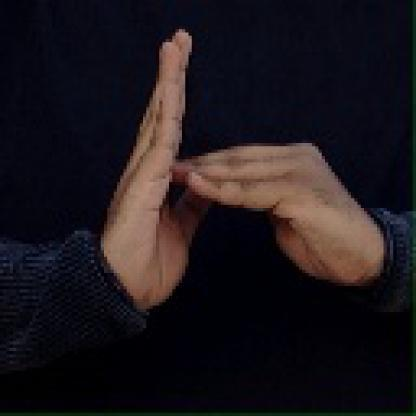Z: (106, 27, 354, 304)
